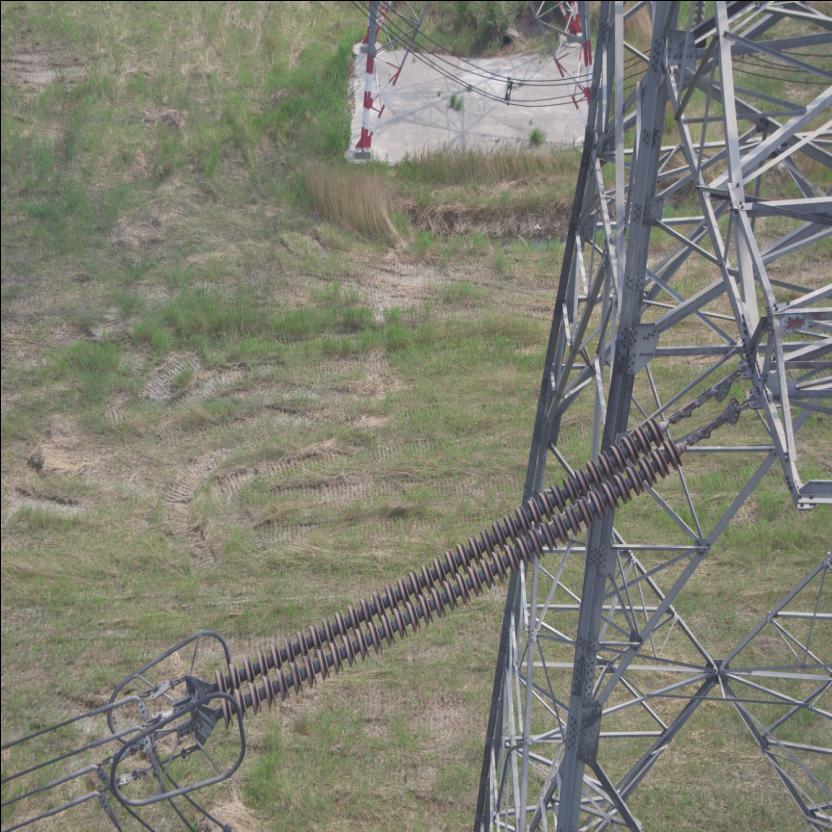insulator: (204, 401, 706, 731)
